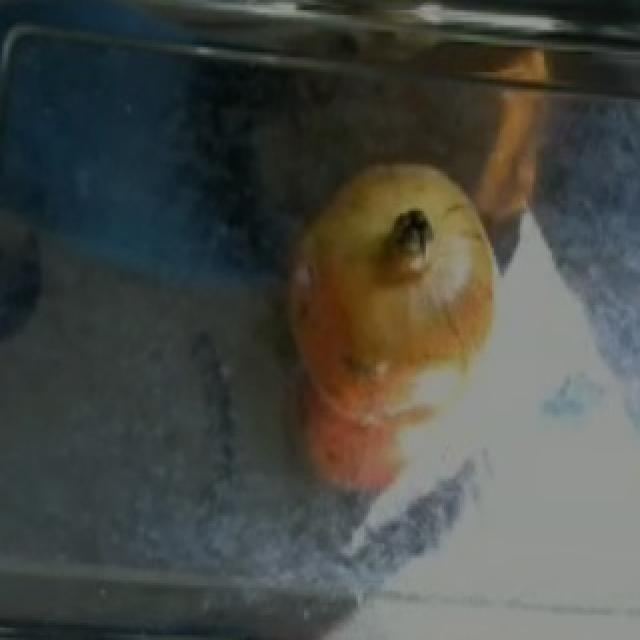fruit: (304, 139, 512, 345)
